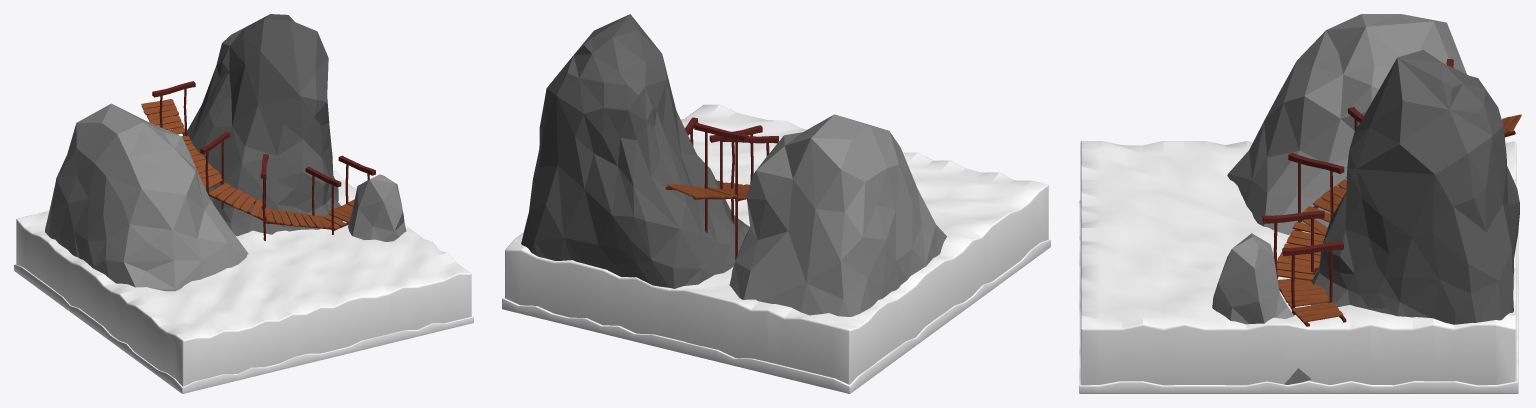
Rendered from LowPolyTokyo.gltf.
3 views of the same model, side by side, from view 1: azimuth 30°, elevation 25°; view 2: azimuth 150°, elevation 25°; view 3: azimuth 270°, elevation 25° (orthographic). The views are drawn at different scales.
Parts seen in each view (by area): view 1: water_7, mountain1.001_4, mountain1_3, sand_6, boards_0, mountain1.002_5, bridgee_1; view 2: water_7, mountain1_3, mountain1.001_4, sand_6, bridgee_1, boards_0; view 3: water_7, mountain1_3, mountain1.001_4, sand_6, mountain1.002_5, boards_0, bridgee_1.
Part boxes in pixels (x1,y1,x2,y2): water_7: [16, 170, 471, 386]; mountain1.001_4: [45, 103, 248, 291]; mountain1_3: [187, 14, 342, 236]; sand_6: [14, 264, 473, 393]; boards_0: [141, 99, 354, 229]; mountain1.002_5: [348, 174, 406, 241]; bridgee_1: [147, 81, 375, 240]; water_7: [505, 104, 1048, 384]; mountain1_3: [521, 14, 750, 288]; mountain1.001_4: [729, 114, 946, 316]; sand_6: [502, 239, 1050, 393]; bridgee_1: [665, 117, 778, 259]; boards_0: [667, 179, 749, 199]; water_7: [1080, 141, 1516, 385]; mountain1_3: [1311, 50, 1519, 324]; mountain1.001_4: [1227, 14, 1466, 234]; sand_6: [1079, 200, 1518, 393]; mountain1.002_5: [1212, 233, 1311, 384]; boards_0: [1277, 114, 1521, 322]; bridgee_1: [1262, 59, 1515, 326].
Size of the model in its own units: 25.55 by 20.58 by 25.73.
7 materials, 2 textured.
